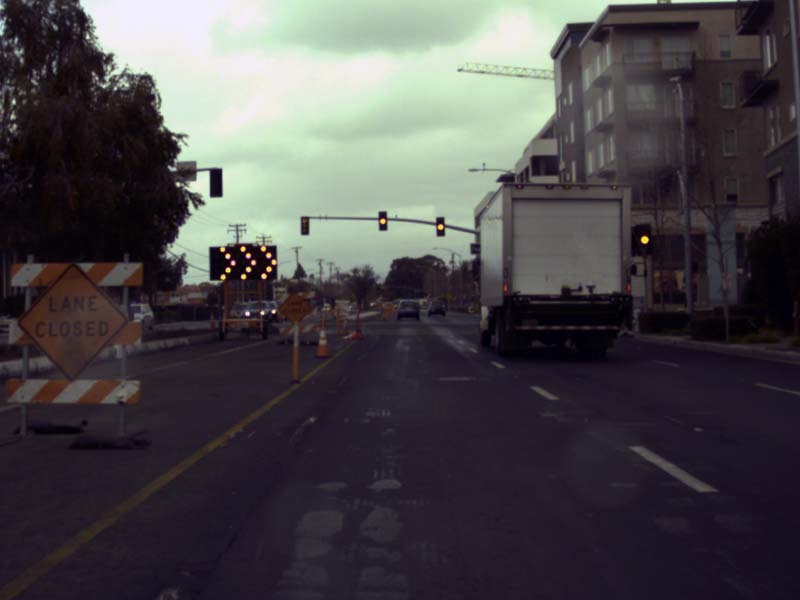Red: (301, 217, 308, 233), (428, 293, 432, 298), (403, 284, 405, 289), (391, 285, 393, 289), (378, 285, 379, 289)
Yellow: (639, 224, 650, 254), (436, 217, 444, 235), (379, 212, 386, 229)
